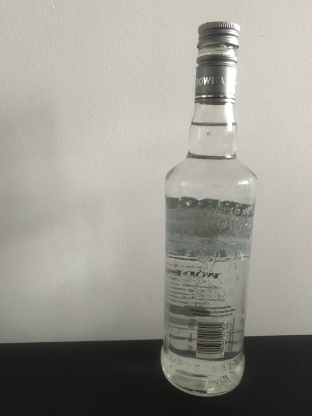nakretka: (193, 19, 241, 104)
